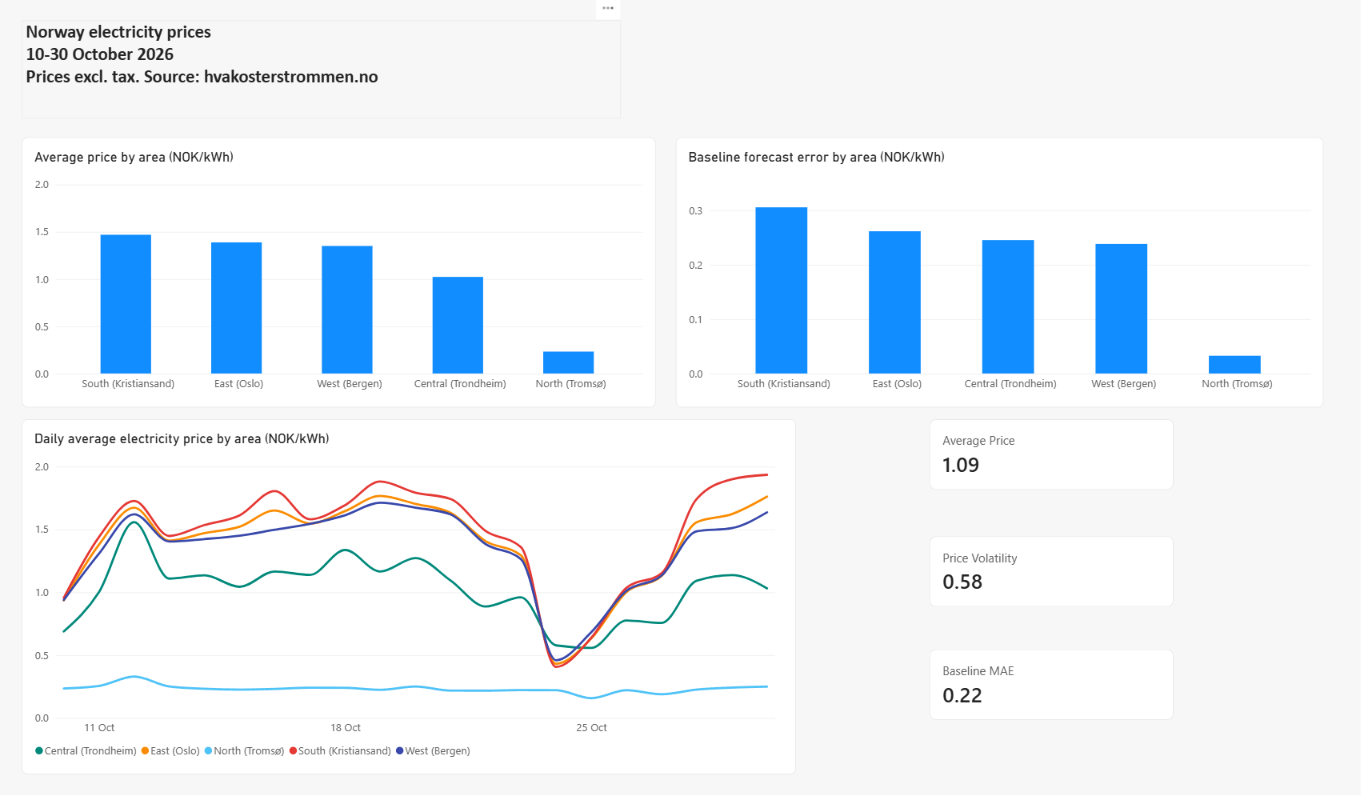

The page's visual inventory and layout, read from the dashboard file:
{"tool":"powerbi","page":{"name":"Page 1","canvas":[1920,1080],"ordinal":0},"visuals":[{"type":"clusteredColumnChart","title":"Average price by area (NOK/kWh)","fields":{"Category":["dim_area.area_name"],"Y":["fact_hourly.Average Price"]},"box":[38.5,194,842.5,358.8],"z":0},{"type":"cardVisual","fields":{"Data":["fact_hourly.Price Volatility"]},"box":[1245.2,724.3,324.3,94.4],"z":1},{"type":"clusteredColumnChart","title":"Baseline forecast error by area (NOK/kWh)","fields":{"Category":["dim_area.area_name"],"Y":["fact_hourly.Baseline MAE"]},"box":[907.6,194,861.1,358.8],"z":2},{"type":"cardVisual","fields":{"Data":["fact_hourly.Average Price"]},"box":[1245.2,568.8,324.3,94.4],"z":3},{"type":"cardVisual","fields":{"Data":["fact_hourly.Baseline MAE"]},"box":[1245.2,874.4,324.3,94.4],"z":4},{"type":"lineChart","title":"Daily average electricity price by area (NOK/kWh)","fields":{"Category":["fact_hourly.date_utc"],"Series":["dim_area.area_name"],"Y":["fact_hourly.Average Price"]},"box":[38.5,568.8,1028.6,471.8],"z":5},{"type":"textbox","box":[38.5,38.5,796,130.2],"z":6},{"type":"cardVisual","fields":{"Data":["fact_hourly.Total Consumption GWh"]},"box":[1245.2,38.5,324.3,119.6],"z":7}]}

Visuals, with their boxes on the page's 1920x1080 design canvas (x1, y1, x2, y2). These are canvas units, not pixel positions in the 1361x795 screenshot, which may show the page scaled, cropped or inside an application window:
"Average price by area (NOK/kWh)" clusteredColumnChart: bbox(38, 194, 881, 553)
cardVisual - fact_hourly.Price Volatility: bbox(1245, 724, 1570, 819)
"Baseline forecast error by area (NOK/kWh)" clusteredColumnChart: bbox(908, 194, 1769, 553)
cardVisual - fact_hourly.Average Price: bbox(1245, 569, 1570, 663)
cardVisual - fact_hourly.Baseline MAE: bbox(1245, 874, 1570, 969)
"Daily average electricity price by area (NOK/kWh)" lineChart: bbox(38, 569, 1067, 1041)
textbox: bbox(38, 38, 834, 169)
cardVisual - fact_hourly.Total Consumption GWh: bbox(1245, 38, 1570, 158)
